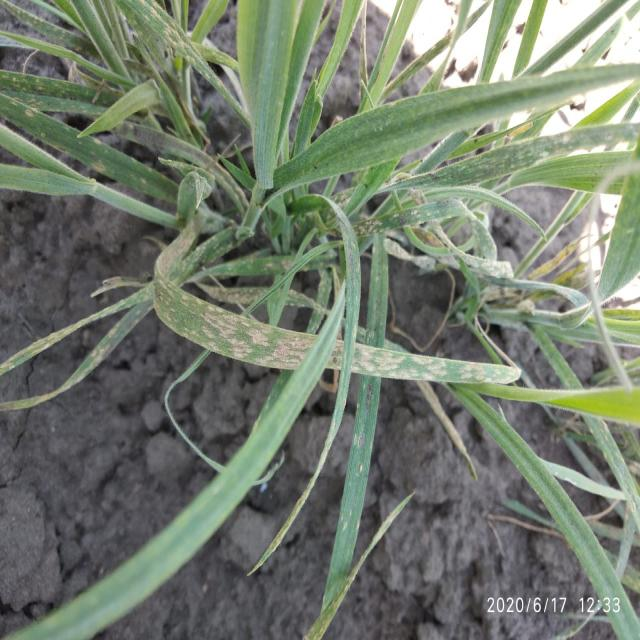wheat-powdery-mildew: (154, 221, 316, 372), (352, 344, 522, 387)
